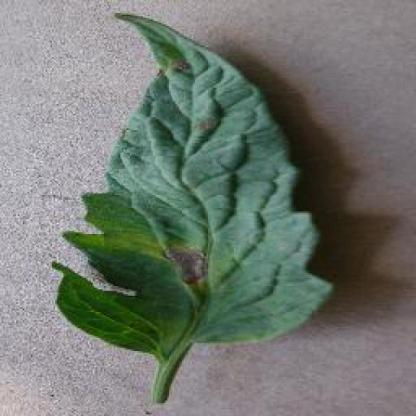Tomato_Blight: (50, 11, 332, 352)
